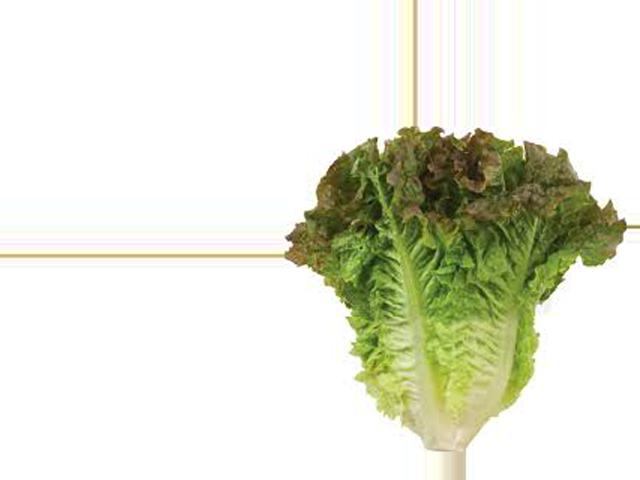lettuce: (288, 129, 625, 453)
